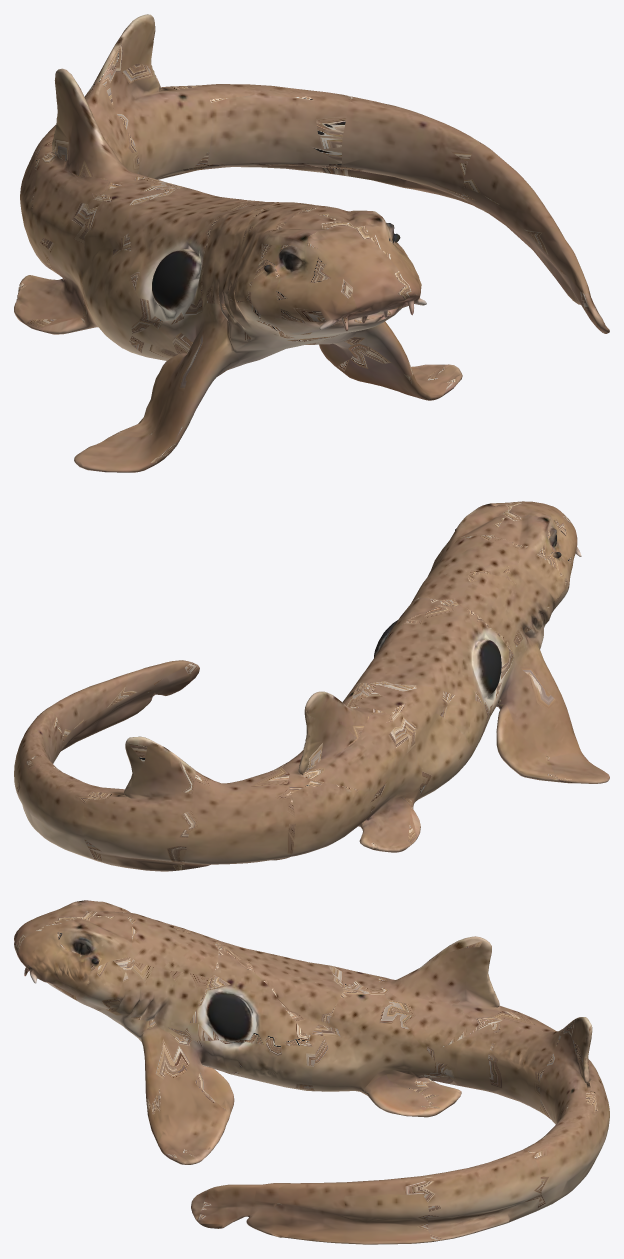
Rendered from epaulette.glb.
The picture shows the model from 3 angles, top to bottom: view 1: azimuth 30°, elevation 25°; view 2: azimuth 150°, elevation 25°; view 3: azimuth 270°, elevation 25°; orthographic projection. The views are drawn at different scales.
Parts seen in each view (by area): view 1: tripo_node_6cde07bc-2781-4b5a-b56e-bcc4319f2200; view 2: tripo_node_6cde07bc-2781-4b5a-b56e-bcc4319f2200; view 3: tripo_node_6cde07bc-2781-4b5a-b56e-bcc4319f2200.
Part boxes in pixels (bbox=[...]): tripo_node_6cde07bc-2781-4b5a-b56e-bcc4319f2200: bbox=[14, 14, 609, 472]; tripo_node_6cde07bc-2781-4b5a-b56e-bcc4319f2200: bbox=[14, 501, 609, 871]; tripo_node_6cde07bc-2781-4b5a-b56e-bcc4319f2200: bbox=[14, 900, 609, 1244].
Size of the model in its own units: 1.18 by 0.4999 by 1.41.
Materials: 1 (1 with a texture image).
